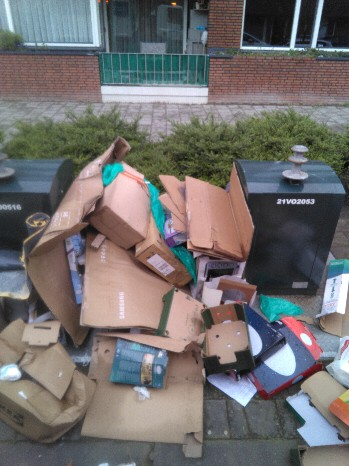Container: (260, 167, 345, 309), (12, 161, 49, 217)
Papier: (3, 329, 181, 441), (97, 313, 205, 410), (71, 276, 228, 339), (73, 156, 142, 298), (183, 307, 298, 367), (155, 181, 244, 250), (302, 342, 349, 437), (84, 168, 148, 229), (39, 228, 86, 274), (324, 281, 349, 337)
